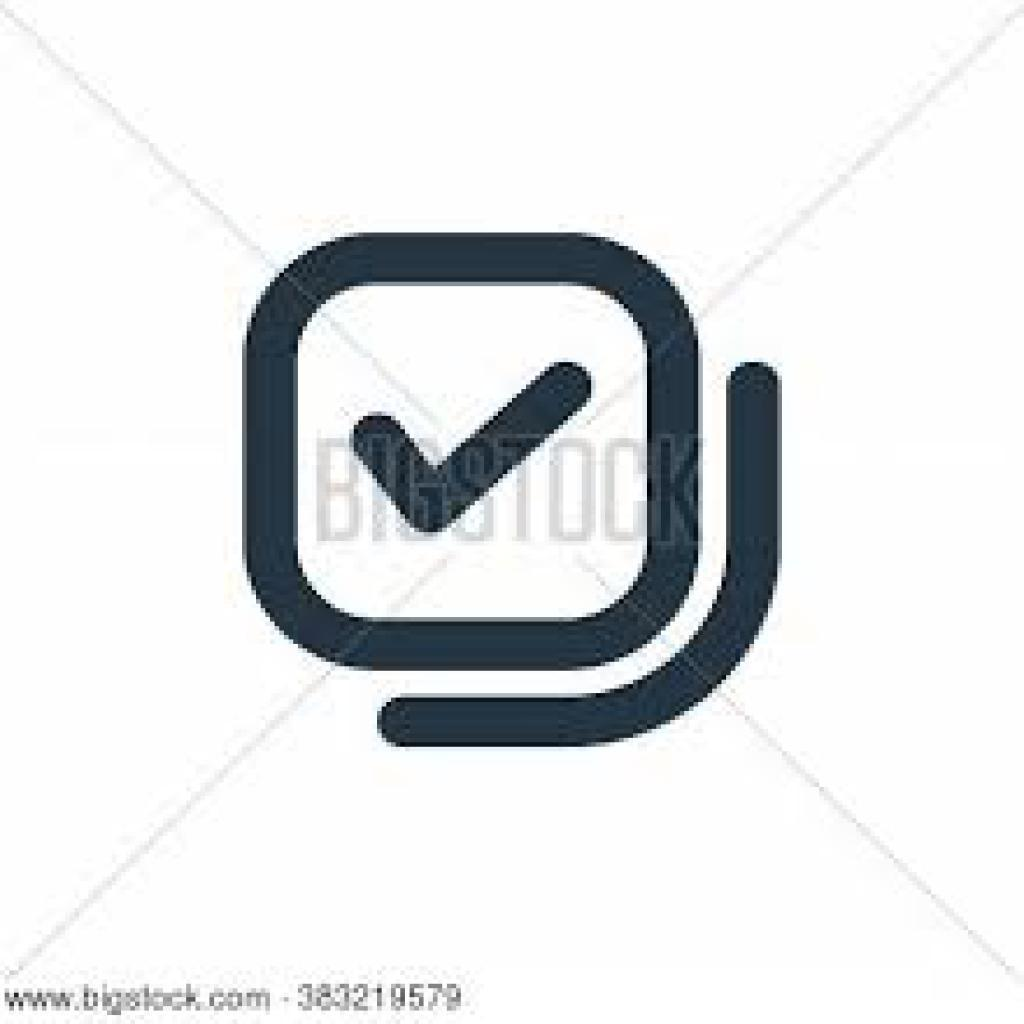checkbox: (241, 232, 703, 671)
